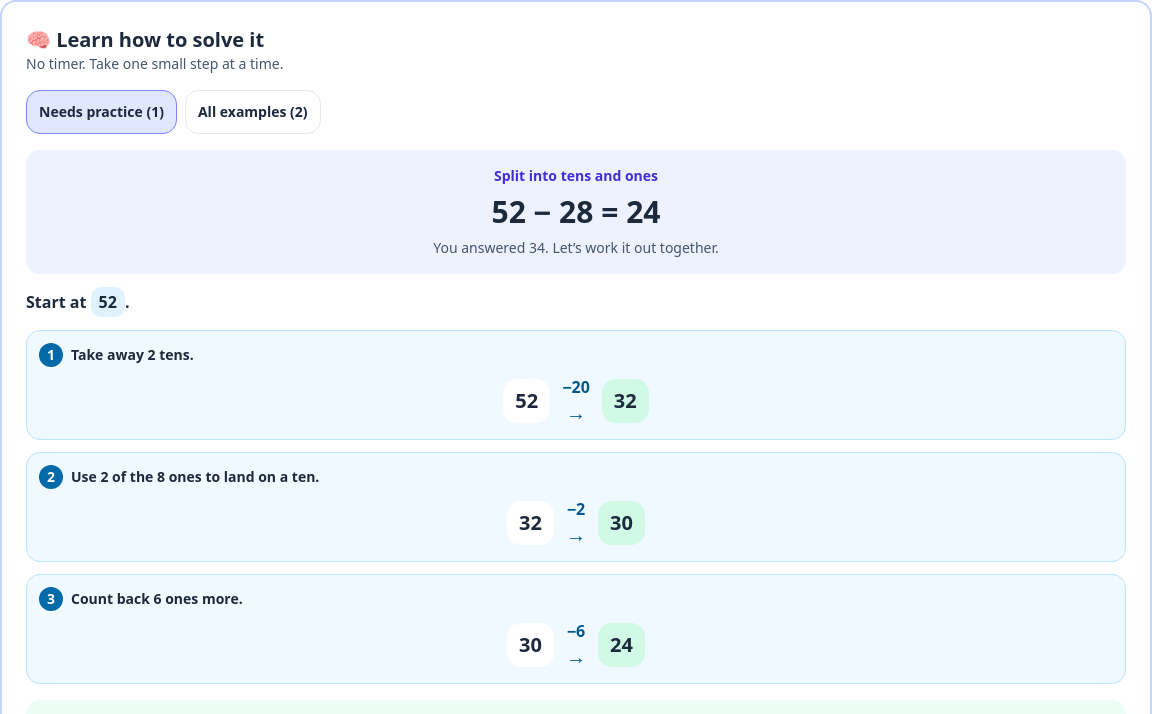
Test case: teaching review › starts with mistakes, includes correct answers, and reopens after a page reload
Later steps or results of the test are not shown.
Expected: the text "52 − 28 = 24" is shown, [492,191,660,232]
Expected: the element named "32 − 2 equals 30" is shown, [507,498,645,548]
Click the button "All examples (2)": (253, 112) [185,90,321,134]
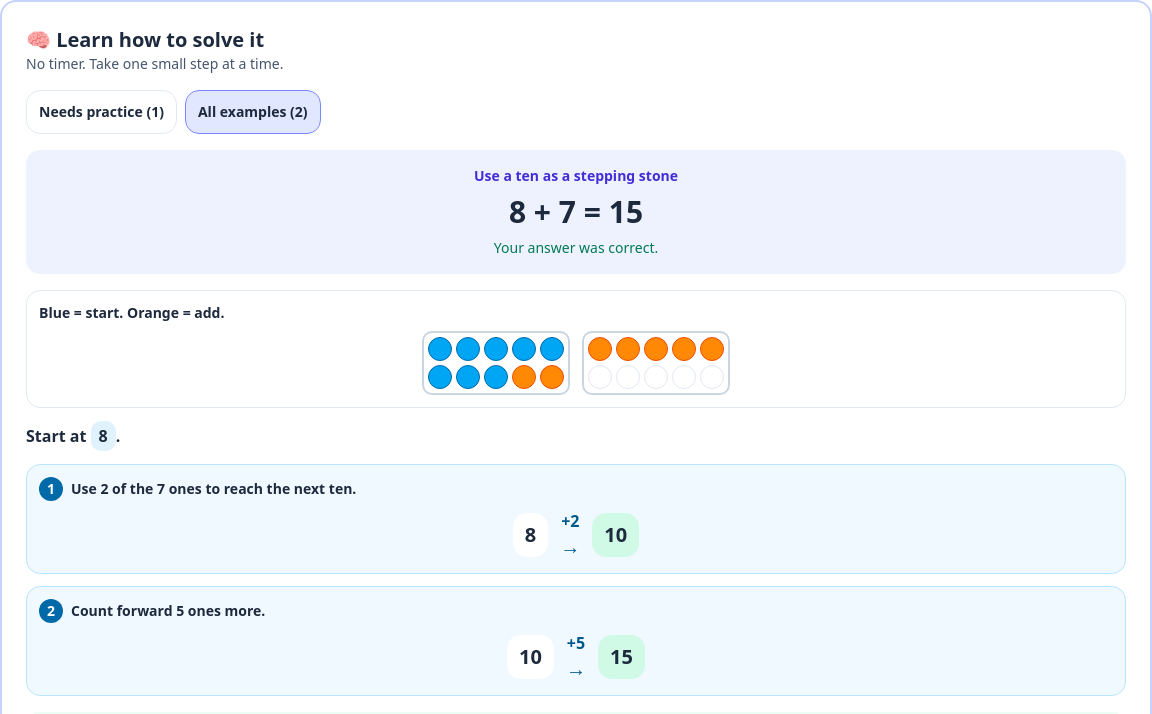
Expected: the text "8 + 7 = 15" is shown, [509,191,643,232]
Expected: the text "Your answer was correct." is shown, [494,238,658,257]
